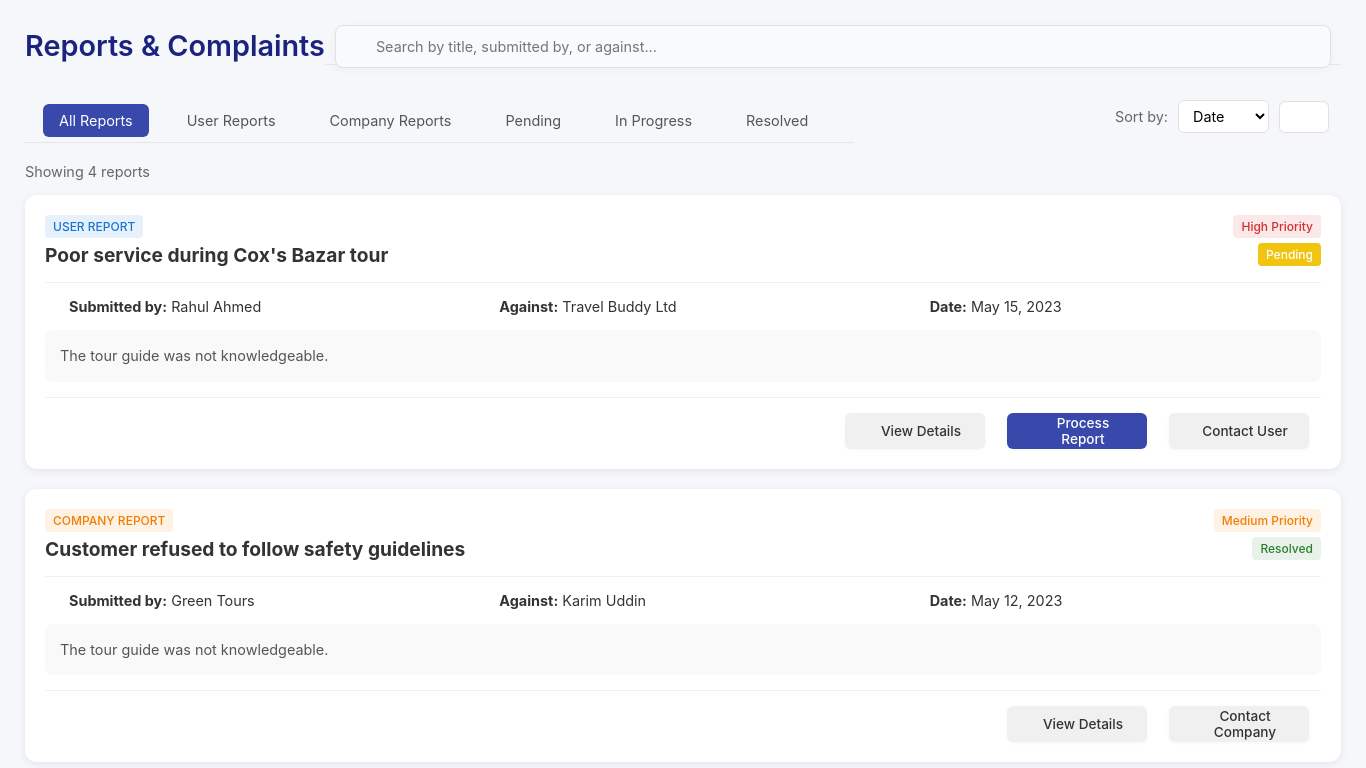
it: restores the previous status and explains a rejected change
Click the button "Process Report". click: (1077, 431)
box: x1=1007 y1=413 x2=1147 y2=449
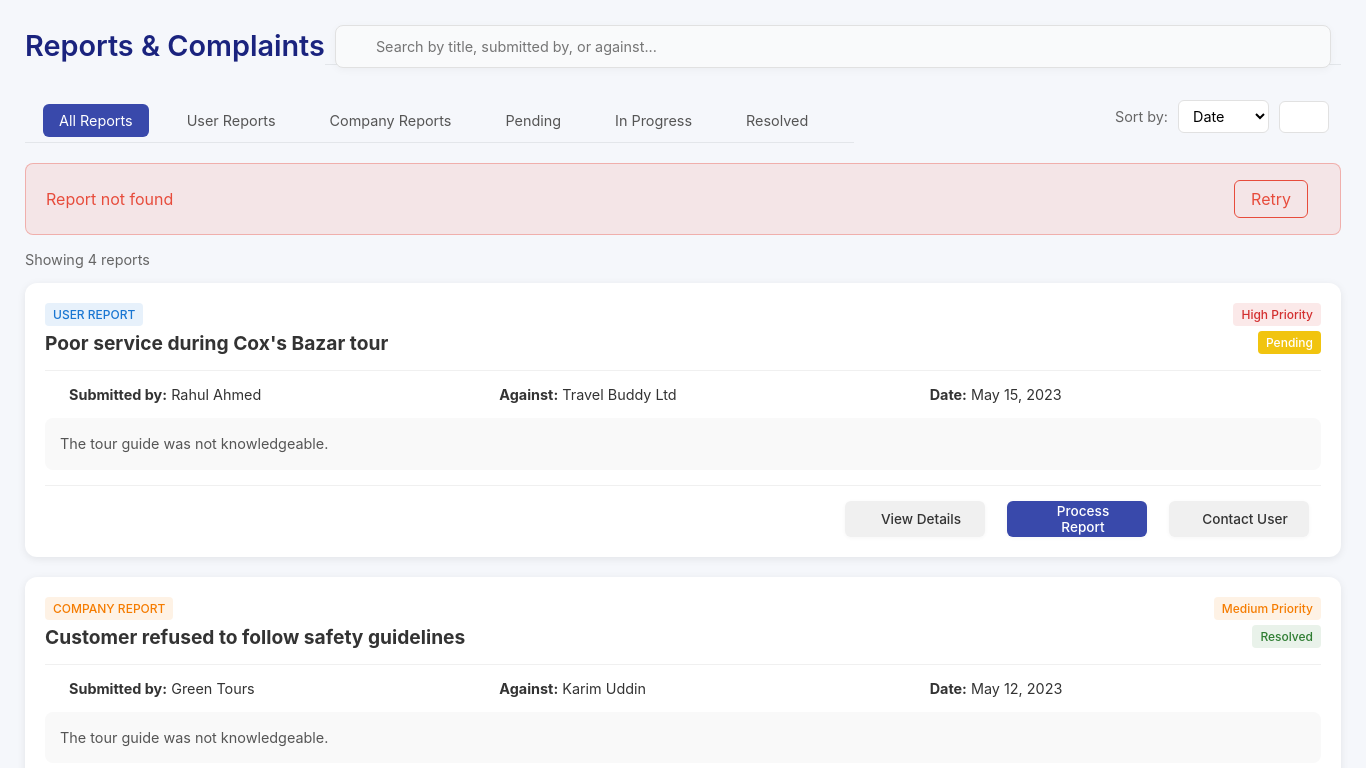
Expected: the button "Process Report" is shown, x1=1007 y1=501 x2=1147 y2=537
Now the message shows "Report not found", box x1=46 y1=189 x2=173 y2=209
